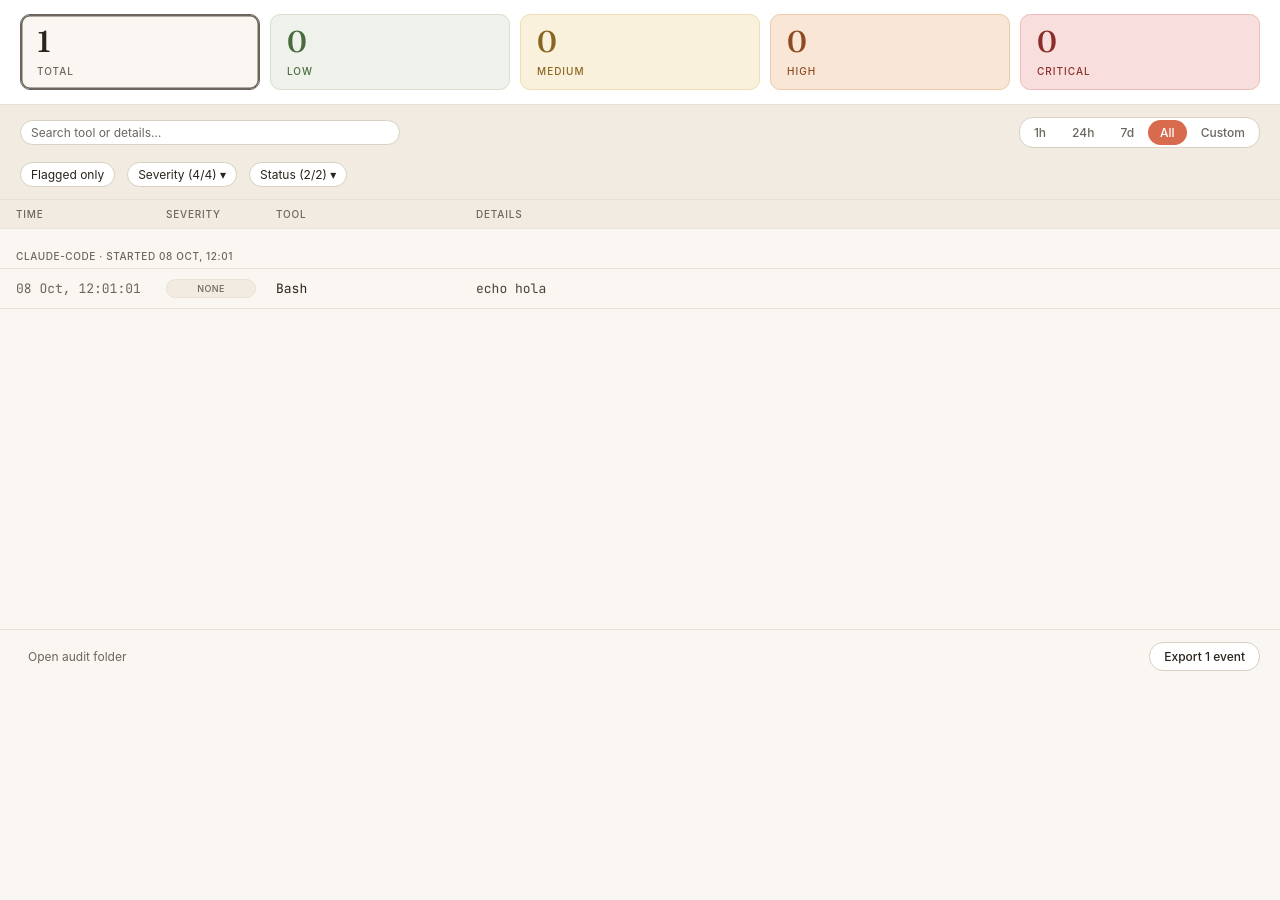
Test: CC empty state (dogfood 22/07) › no-match search → filtered empty state with Clear filters, NOT the onboarding message
The width and height of the screenshot is (1280, 900).
Expected: the text "Bash" is shown, [276, 280, 307, 297]
In the search field labelled "Search tool or details": (210, 132) [20, 120, 400, 145], type "adsfas"
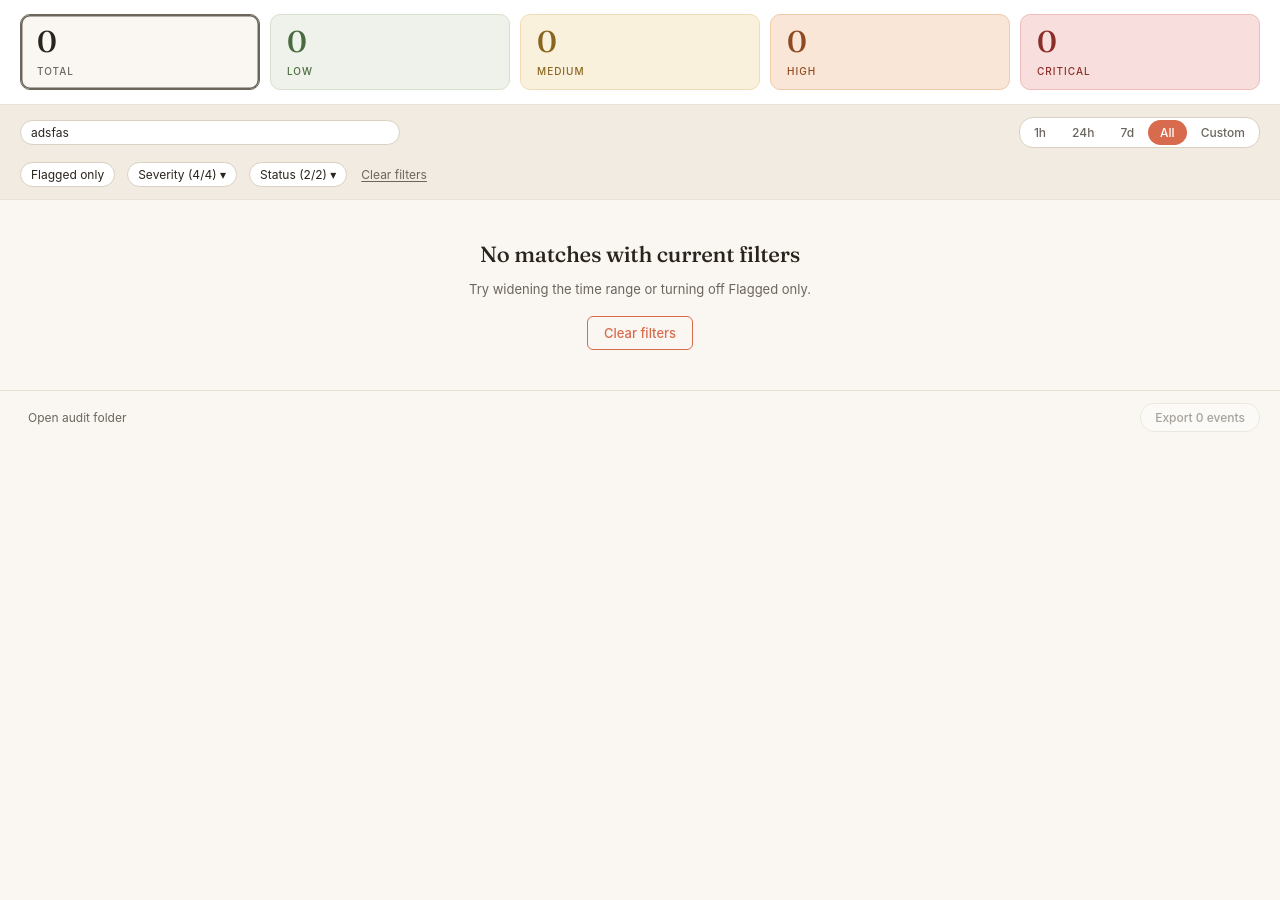
Result: the number of buttons "Clear filters" is 2 at [359, 163, 429, 186]; [587, 316, 693, 350]
Result: the heading "No matches with current filters" is shown at [480, 240, 800, 268]
